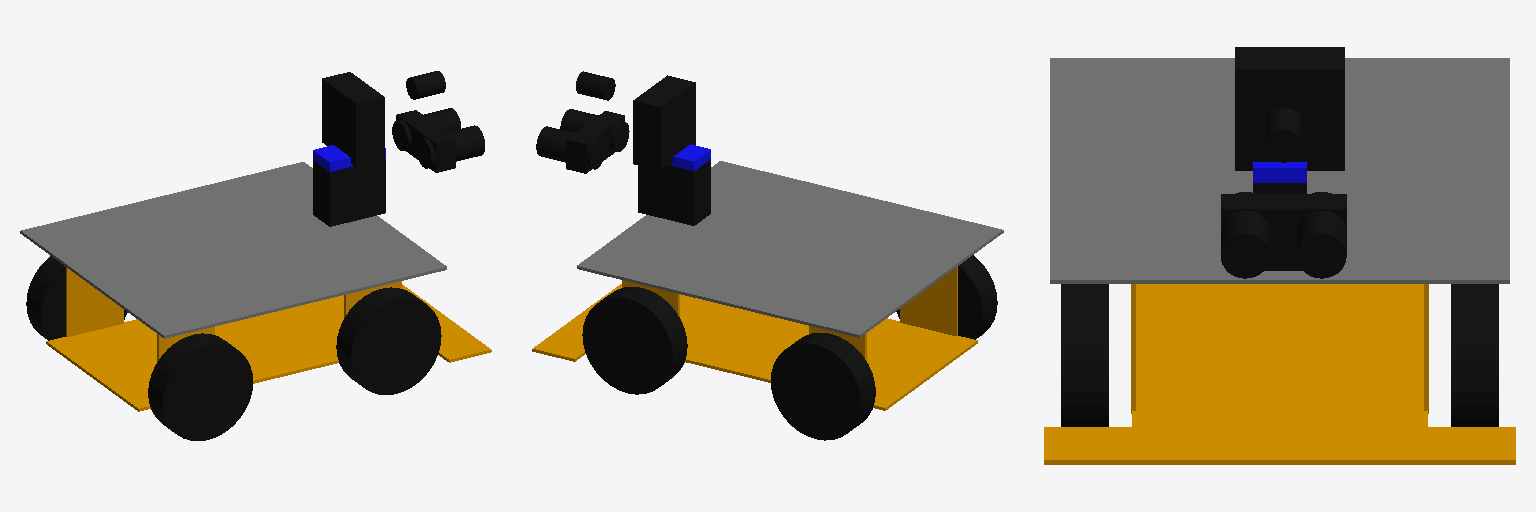
The robot description file, URDF, robot "robocar":
<robot name="robocar">

  <!-- The base platform -->
  <link name="base_link">
    <visual> <!-- Platform top -->
      <origin xyz="0 0 0.079"/>
      <geometry>
        <box size="0.200 0.176 0.002"/>
      </geometry>
      <material name="grey"><color rgba="0.5 0.5 0.5 1"/></material>
    </visual>

    <visual> <!-- platform bottom -->
      <origin xyz="0 0 0.017"/>
      <geometry>
        <box size="0.200 0.113 0.002"/>
      </geometry>
      <material name="dark"/>
    </visual>
    <visual><origin xyz="0.115 0 0.017"/><geometry><box size="0.03 0.18 0.002" /></geometry><material name="dark"/></visual>

    <!-- Sides -->
    <visual><origin xyz="-.066 0.056 0.048"/><geometry><box size="0.04 0.002 0.062" /></geometry><material name="dark"/></visual>
    <visual><origin xyz=".066 0.056 0.048"/><geometry><box size="0.04 0.002 0.062" /></geometry><material name="dark"/></visual>
    <visual><origin xyz="-.066 -0.056 0.048"/><geometry><box size="0.04 0.002 0.062" /></geometry><material name="dark"/></visual>
    <visual><origin xyz=".066 -0.056 0.048"/><geometry><box size="0.04 0.002 0.062" /></geometry><material name="dark"/></visual>

    <visual>
      <origin xyz="0.08 -0.03 0.08" rpy="1.5708 0 1.5708"/>
      <material name="blue"><color rgba="0.1 0.1 1 1"/></material>
      <geometry>
        <mesh scale="0.001 0.001 0.001" filename="package://robocar/../../../3D_Prints/PanTiltBase/BaseTop.STL"/>
      </geometry>
    </visual>
  </link>

  <link name="sensor_arm">
    <visual>
      <origin xyz="-0.01085 0 0.023" />
      <material name="black"><color rgba="0.1 0.1 0.1 1"/></material>
      <geometry> 
        <box size="0.04 0.021 0.037"/>
      </geometry>
    </visual>
    <visual>
      <material name="blue"><color rgba="0.1 0.1 1 1"/></material>
      <origin xyz="-0.01085 0 0.04475" />
      <geometry> 
        <box size="0.04 0.021 0.0065"/>
      </geometry>
    </visual>
    <visual>
      <material name="black"/>
      <origin xyz="-0.006 0.0039 0.0655" />
      <geometry> 
        <box size="0.02 0.042 0.043"/>
      </geometry>
    </visual>
  </link>

  <link name="sensor_platform">
    <visual>
      <origin xyz="0.04 0 0" rpy="-1.5708 0 1.5708"/>
      <material name="blue"><color rgba="0.1 0.1 1 1"/></material>
      <geometry>
        <mesh scale="0.001 0.001 0.001" filename="package://robocar/../../../3D_Prints/PanTilt/head_fixed.stl"/>
      </geometry>
    </visual>
  </link>

  <link name="camera">
    <visual>
      <origin xyz="0.01 0 0" rpy="0 -1.5708 0"/>
      <material name="black"/>
      <geometry><cylinder length="0.02" radius="0.007"/></geometry>
    </visual>
  </link>

  <link name="rangefinder">
    <visual>
      <origin xyz="0.019 0.0146 0" rpy="0 -1.5708 0"/>
      <material name="black"/>
      <geometry><cylinder length="0.038" radius="0.0095"/></geometry>
    </visual>
    <visual>
      <origin xyz="0.019 -0.0146 0" rpy="0 -1.5708 0"/>
      <material name="black"/>
      <geometry><cylinder length="0.038" radius="0.0095"/></geometry>
    </visual>
    <visual>
      <origin xyz="0.01 0 0"/>
      <material name="black"/>
      <geometry><box size="0.014 0.04822 0.02"/></geometry>
    </visual>
  </link>

  <joint name="servo_yaw" type="revolute">
    <parent link="base_link"/>
    <child link="sensor_arm"/>
    <axis xyz="0 0 1" />
    <limit lower="-0.785" upper="0.785" effort="1" velocity="1" />
    <origin xyz="0.0925 0 0.08"/> 
  </joint>

  <joint name="servo_pitch" type="revolute">
    <axis xyz="0 -1 0"/>
    <limit lower="-0.174" upper="1.745" effort="1" velocity="1"/>
    <parent link="sensor_arm"/>
    <child link="sensor_platform"/>
    <origin xyz="-.006 0.0014 0.078"/> 
  </joint>

  <joint name="camera_offset" type="fixed">
    <parent link="sensor_platform"/>
    <child link="camera"/>
    <origin xyz="0.04 0 0"/> 
  </joint>

  <joint name="rangefinder_offset" type="fixed">
    <parent link="sensor_platform"/>
    <child link="rangefinder"/>
    <origin xyz="0.04 0 -0.038"/> 
  </joint>

  <!-- Wheels Back -->
  <link name="wheel_back_left">
    <visual>
      <origin xyz="0 0 0" rpy="-1.5708 0 0"/>
      <material name="black"><color rgba="0.1 0.1 0.1 1"/></material>
      <geometry><cylinder length="0.018" radius="0.032"/></geometry>
    </visual>
  </link>

  <joint name="wheel_back_left_joint" type="continuous">
    <parent link="base_link"/>
    <axis xyz="0 1 0"/>
    <child link="wheel_back_left"/>
    <origin xyz="-0.0665 0.0745 0.032"/>
  </joint>

  <link name="wheel_back_right">
    <visual>
      <origin xyz="0 0 0" rpy="-1.5708 0 0"/>
      <material name="black"><color rgba="0.1 0.1 0.1 1"/></material>
      <geometry><cylinder length="0.018" radius="0.032"/></geometry>
    </visual>
  </link>

  <joint name="wheel_back_right_joint" type="continuous">
    <parent link="base_link"/>
    <axis xyz="0 1 0"/>
    <child link="wheel_back_right"/>
    <origin xyz="-0.0665 -0.0745 0.032"/>
  </joint>

  <!-- Wheels Front -->
  <link name="wheel_front_left">
    <visual>
      <origin xyz="0 0 0" rpy="-1.5708 0 0"/>
      <material name="black"><color rgba="0.1 0.1 0.1 1"/></material>
      <geometry><cylinder length="0.018" radius="0.032"/></geometry>
    </visual>
  </link>

  <joint name="wheel_front_left_joint" type="continuous">
    <mimic joint="wheel_back_left_joint"/>"
    <parent link="base_link"/>
    <axis xyz="0 1 0"/>
    <child link="wheel_front_left"/>
    <origin xyz="0.0665 0.0745 0.032"/>
  </joint>

  <link name="wheel_front_right">
    <visual>
      <origin xyz="0 0 0" rpy="-1.5708 0 0"/>
      <material name="black"><color rgba="0.1 0.1 0.1 1"/></material>
      <geometry><cylinder length="0.018" radius="0.032"/></geometry>
    </visual>
  </link>

  <joint name="wheel_front_right_joint" type="continuous">
    <mimic joint="wheel_back_right_joint"/>"
    <parent link="base_link"/>
    <axis xyz="0 1 0"/>
    <child link="wheel_front_right"/>
    <origin xyz="0.0665 -0.0745 0.032"/>
  </joint>

</robot>

--- Facts derived from the render (not from the file) ---
The picture shows the robot from 3 angles, left to right: view 1: azimuth 30°, elevation 25°; view 2: azimuth 150°, elevation 25°; view 3: azimuth 270°, elevation 25°; orthographic projection.
Robot: robocar — 9 links, 8 joints (2 revolute, 4 continuous, 2 fixed); root link base_link; default pose: every joint at zero.
Links seen in each view (by area): view 1: base_link, sensor_arm, wheel_back_right, wheel_front_right, rangefinder, wheel_back_left, camera; view 2: base_link, sensor_arm, wheel_back_left, wheel_front_left, rangefinder, wheel_back_right, camera; view 3: base_link, sensor_arm, rangefinder, wheel_front_left, wheel_front_right, camera.
Boxes of the visible links, box(x1,y1,x2,y2) form: base_link: box(20, 162, 491, 411); sensor_arm: box(313, 72, 385, 226); wheel_back_right: box(148, 333, 252, 440); wheel_front_right: box(336, 287, 441, 394); rangefinder: box(392, 108, 484, 172); wheel_back_left: box(26, 256, 127, 340); camera: box(406, 71, 445, 99); base_link: box(532, 161, 1003, 410); sensor_arm: box(633, 75, 710, 225); wheel_back_left: box(771, 333, 875, 440); wheel_front_left: box(582, 287, 687, 394); rangefinder: box(536, 109, 629, 173); wheel_back_right: box(896, 255, 997, 339); camera: box(576, 71, 615, 100); base_link: box(1044, 58, 1515, 464); sensor_arm: box(1235, 47, 1344, 270); rangefinder: box(1221, 192, 1346, 278); wheel_front_left: box(1451, 284, 1498, 426); wheel_front_right: box(1061, 284, 1108, 426); camera: box(1265, 107, 1301, 162).
Size in the robot's own frame: 0.2645 by 0.18 by 0.167 metres.
Geometry: only primitive shapes (box / cylinder / sphere) drawn; not drawn: 2 mesh visuals (reference in a form the renderer does not follow).